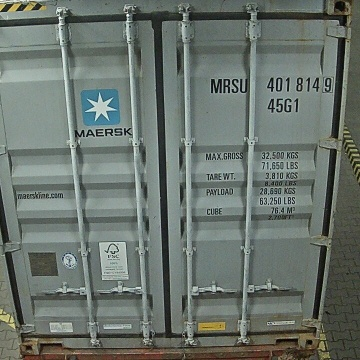serial_id: (211, 76, 333, 93)
